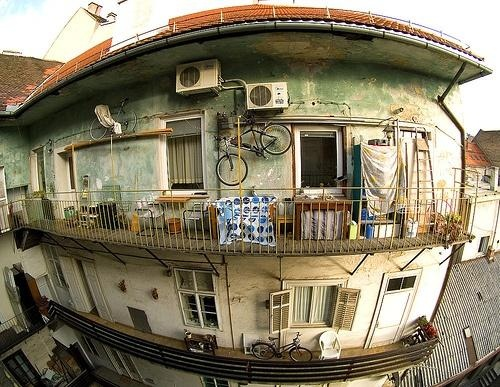bicycle: (213, 113, 297, 187), (249, 330, 316, 367)
